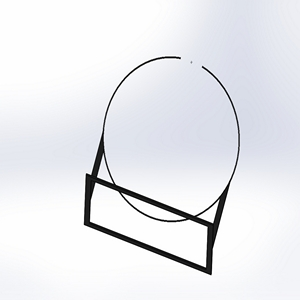circle: (81, 54, 242, 276)
